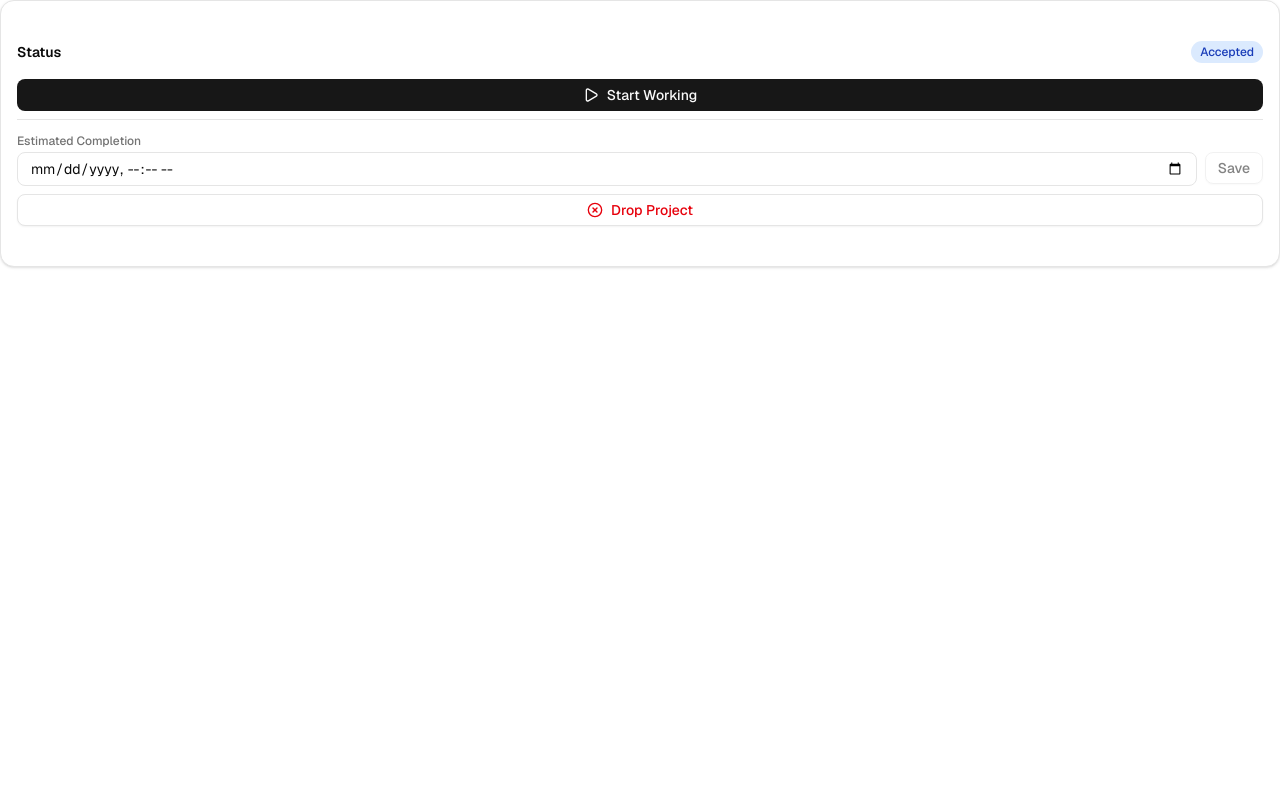
Test: DesignerStatusControls › opens confirmation dialog when Start Working is clicked
Click the button "Start Working": {"x": 640, "y": 95} [17, 79, 1263, 111]
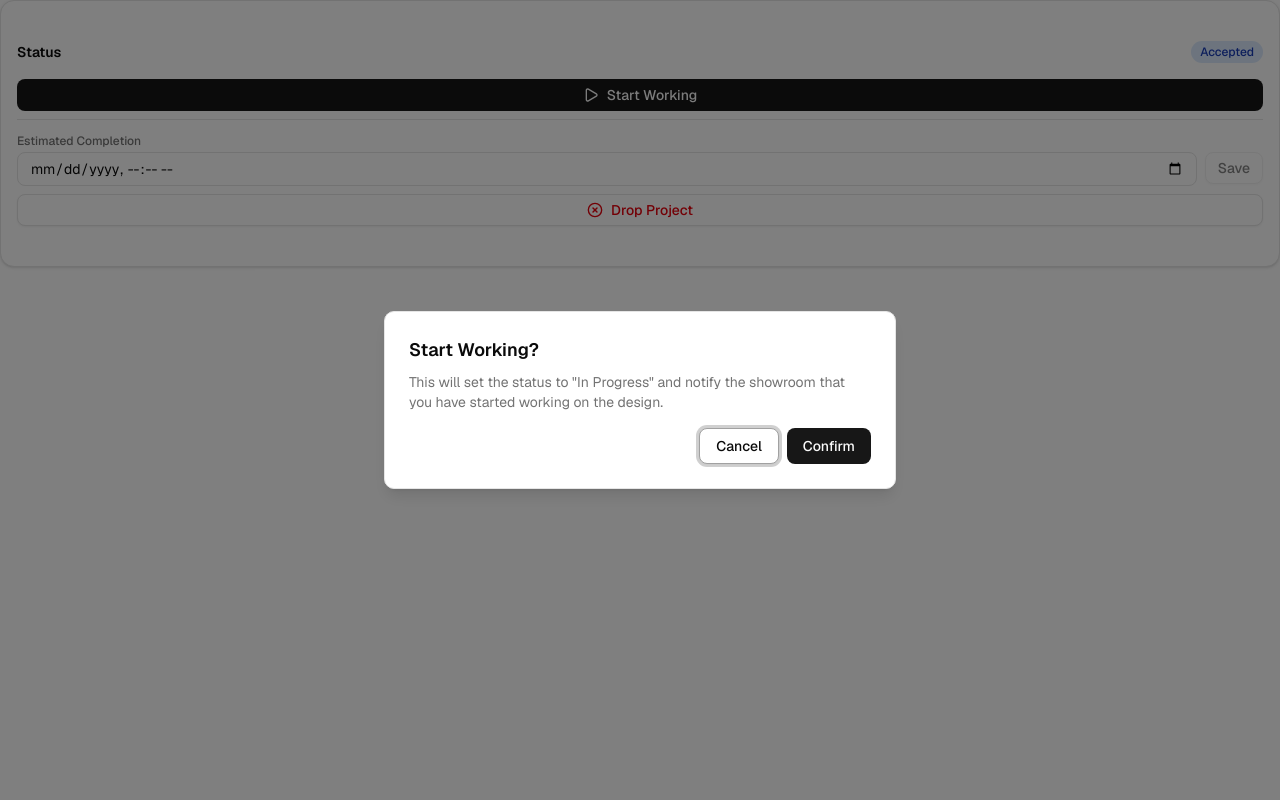
Expected: the heading "Start Working?" is shown, [409, 338, 539, 361]
